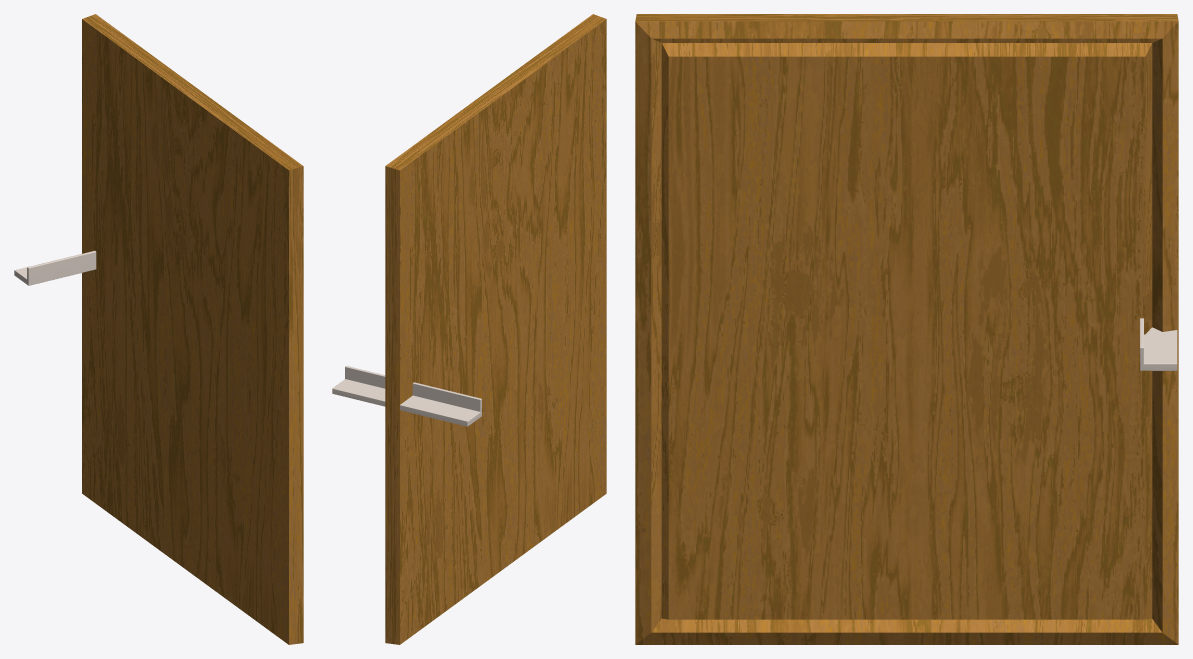
The model's file is Cabinet_9573abc4.obj.
The picture shows the model from 3 angles, left to right: view 1: azimuth 30°, elevation 25°; view 2: azimuth 150°, elevation 25°; view 3: azimuth 270°, elevation 25°; orthographic projection. The views are drawn at different scales.
Visible parts, largest first — view 1: Mesh_01_1e0f0409, handle_3_178mm_01_9e4f8acc; view 2: Mesh_01_1e0f0409, handle_3_178mm_01_9e4f8acc; view 3: Mesh_01_1e0f0409, handle_3_178mm_01_9e4f8acc.
Part boxes in pixels (x1,y1,x2,y2): Mesh_01_1e0f0409: (82,14,303,644); handle_3_178mm_01_9e4f8acc: (14,250,96,285); Mesh_01_1e0f0409: (385,14,606,644); handle_3_178mm_01_9e4f8acc: (332,366,481,426); Mesh_01_1e0f0409: (635,14,1178,644); handle_3_178mm_01_9e4f8acc: (1140,318,1177,370).
Size of the model in its own units: 0.178 by 0.598 by 0.4723.
